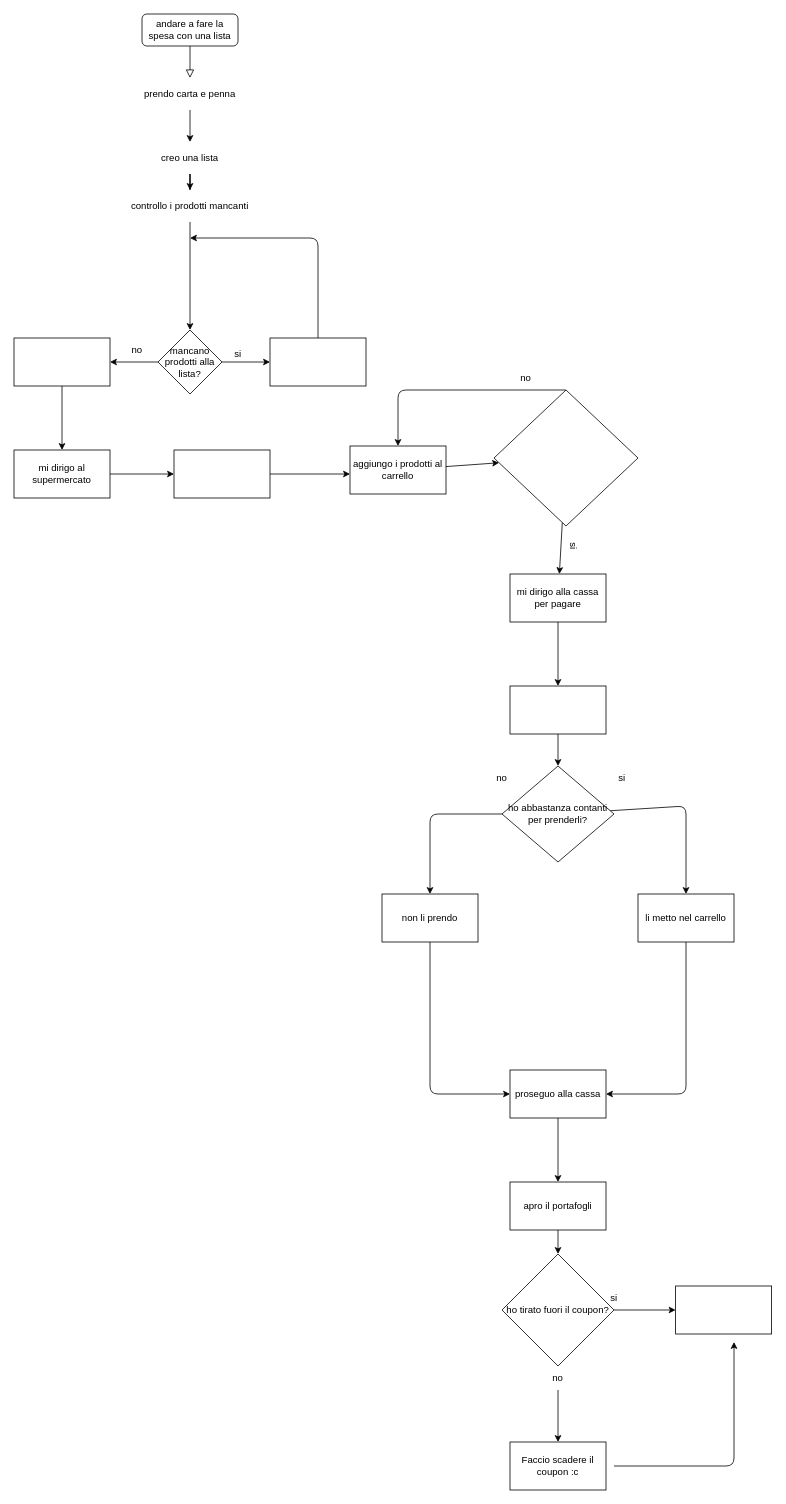
The diagram is 786 pixels wide and 1504 high, and some of its shapes have lost their labels. Each missing label, with the centre of its shape:
ho preso tutti i prodotti? faccio il controllo con la lista: pixel 565 457
pago: pixel 723 1309
prendo il portafogli e coupon: pixel 61 361
scrivilo: pixel 317 361
una volta al supercato pendo la lista: pixel 221 473
vedo lo stand per gli snack: pixel 557 709
